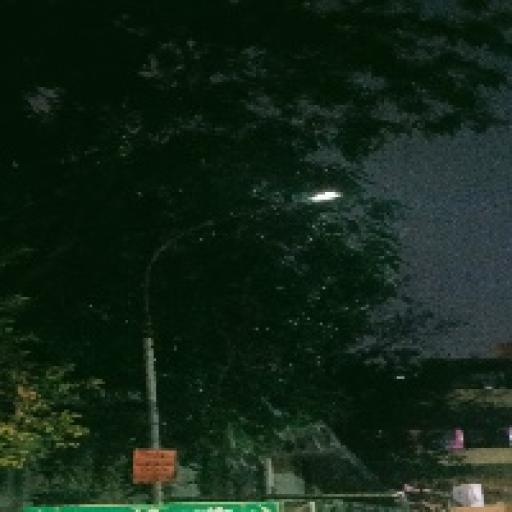Working: (291, 182, 344, 215)
